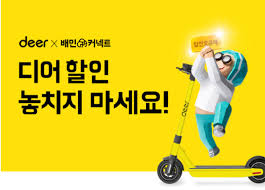kick_body: (192, 166, 247, 177)
kick_wheel: (156, 156, 181, 182), (247, 155, 265, 183)
